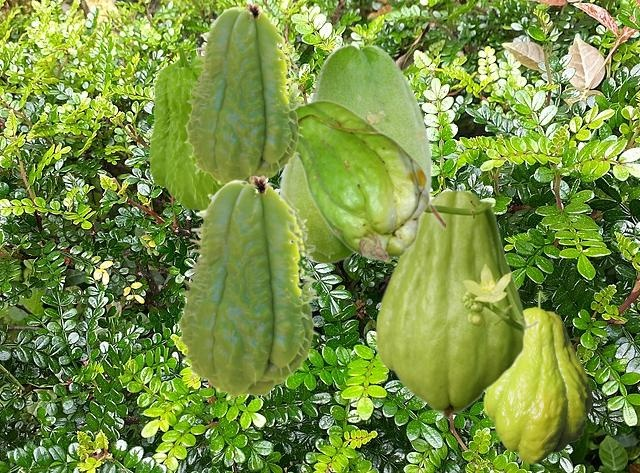sayote: (374, 189, 540, 418), (278, 43, 431, 263), (175, 174, 320, 403), (295, 99, 444, 262), (183, 2, 304, 185), (483, 290, 591, 463), (145, 44, 222, 210)
